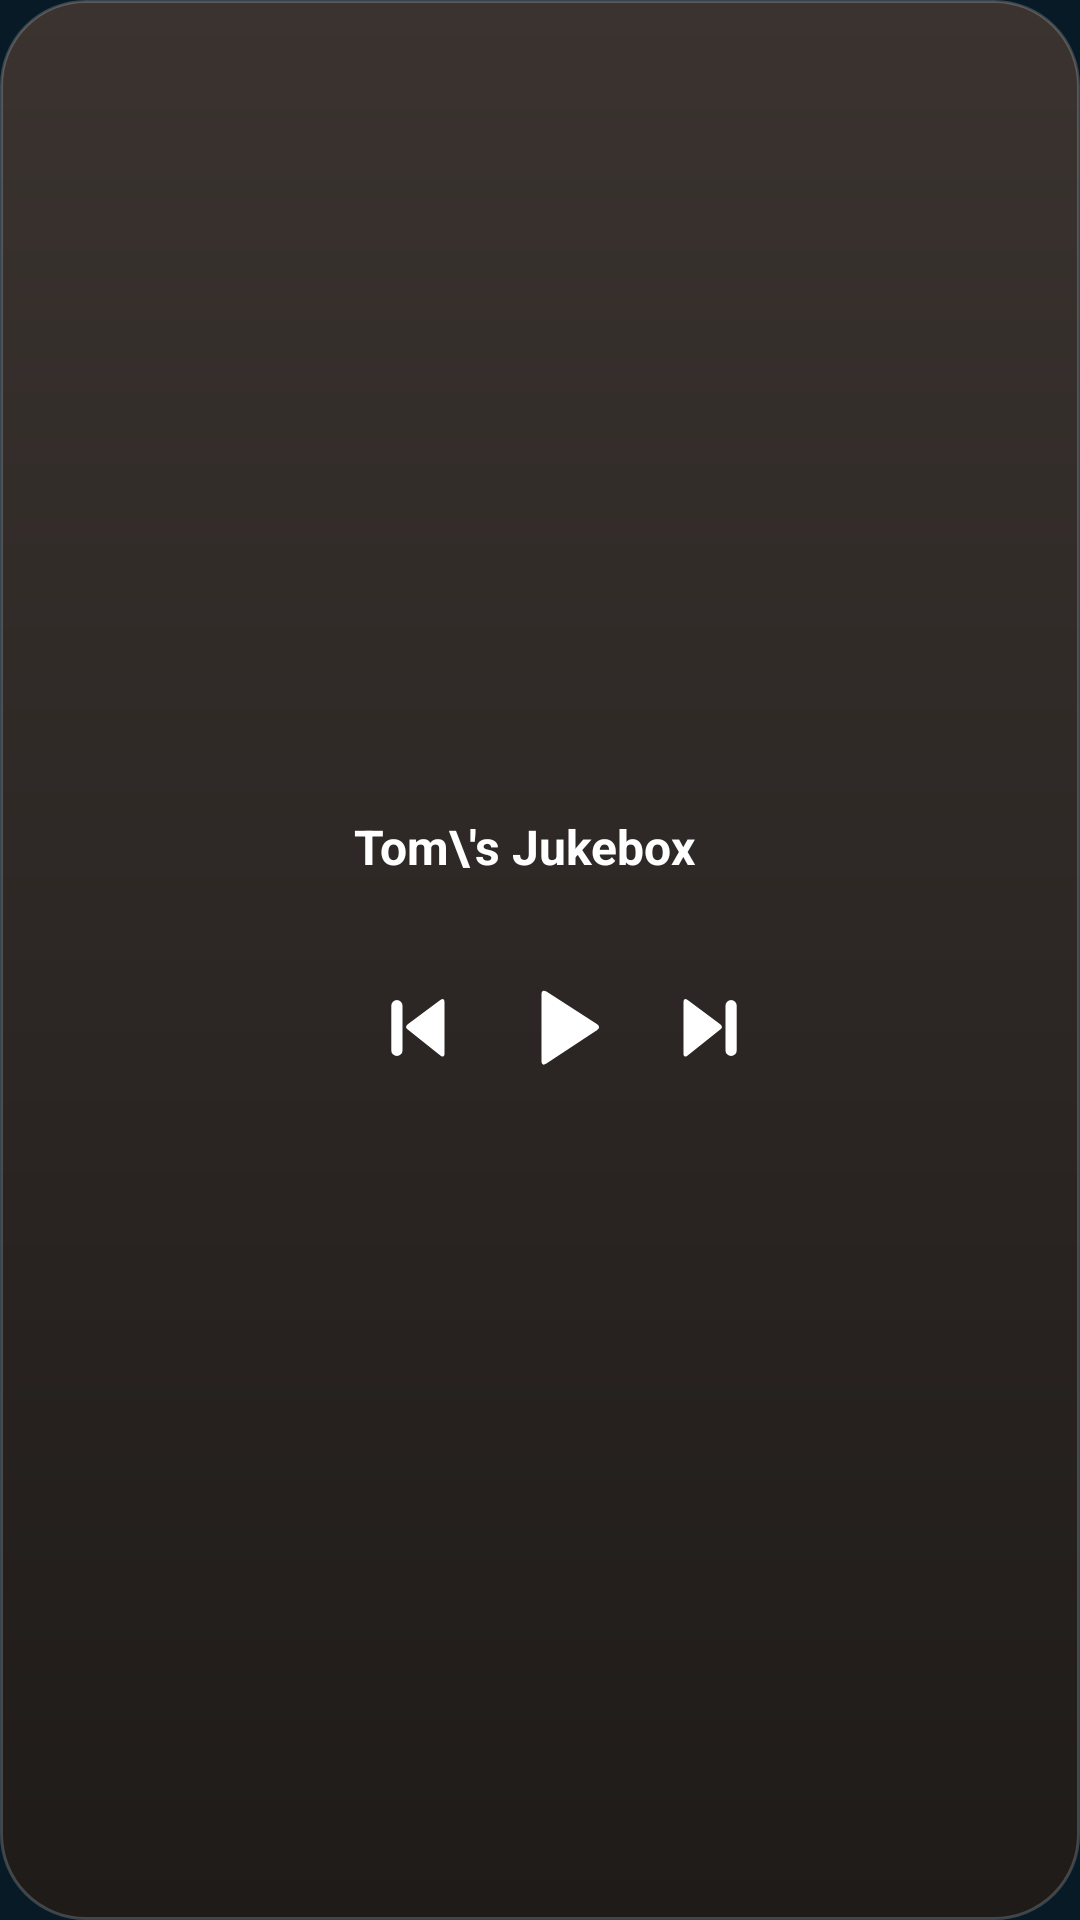

Icons on this 1080*1920 Android screen, each with its box as (x1, y1, x2, y2):
Next: (683, 999, 737, 1057)
Play: (541, 990, 599, 1065)
Previous: (391, 999, 445, 1057)
